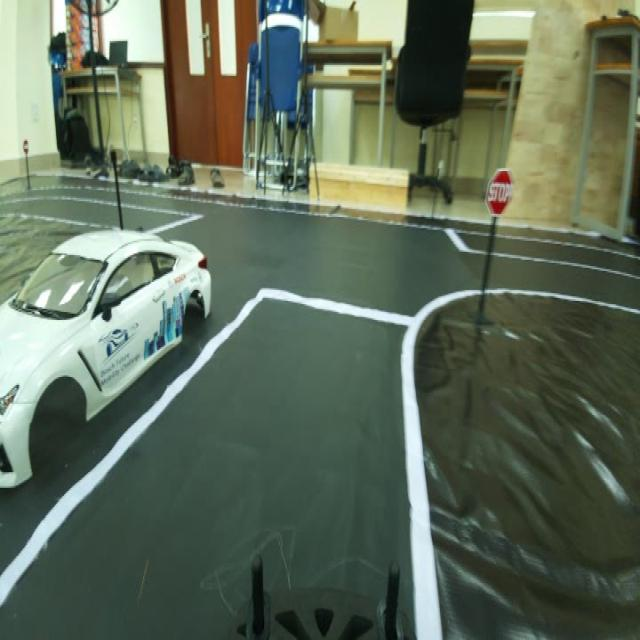car: (5, 240, 219, 478)
stop: (484, 152, 512, 228)
